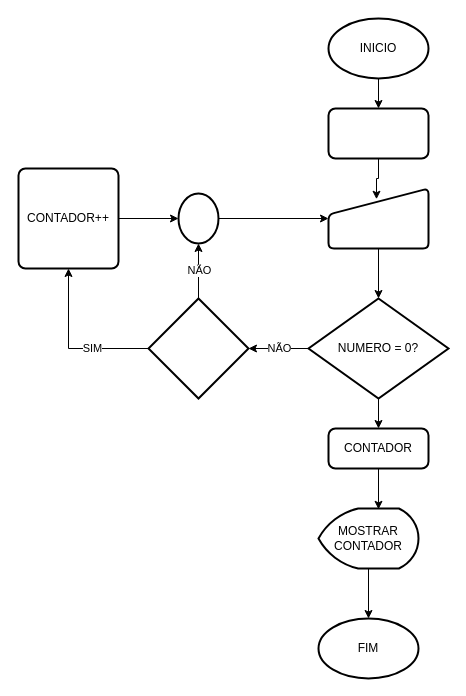
Image size: 466x696. Some labels were removed from this diagram. Each missing label, with the centre of its shape:
CONTADOR = 0: pixel 378 133
DIGITE O NUMERO: pixel 378 218
NUMERO > 100: pixel 198 348
